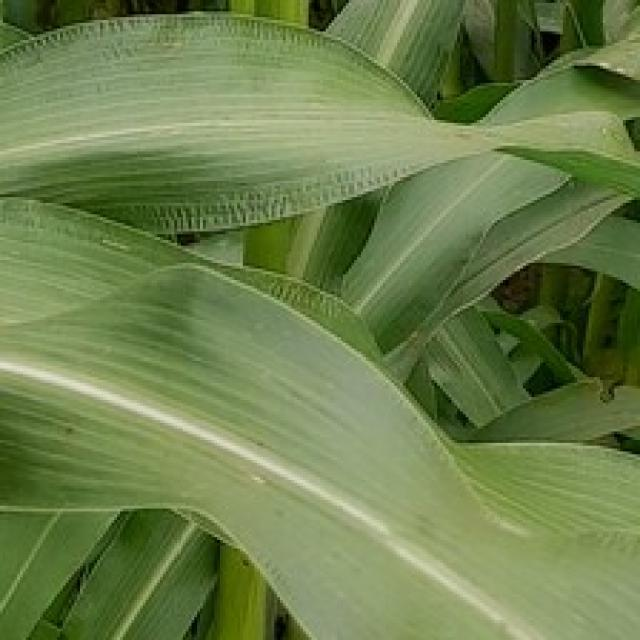Corn: (0, 0, 637, 637), (0, 3, 637, 237)
